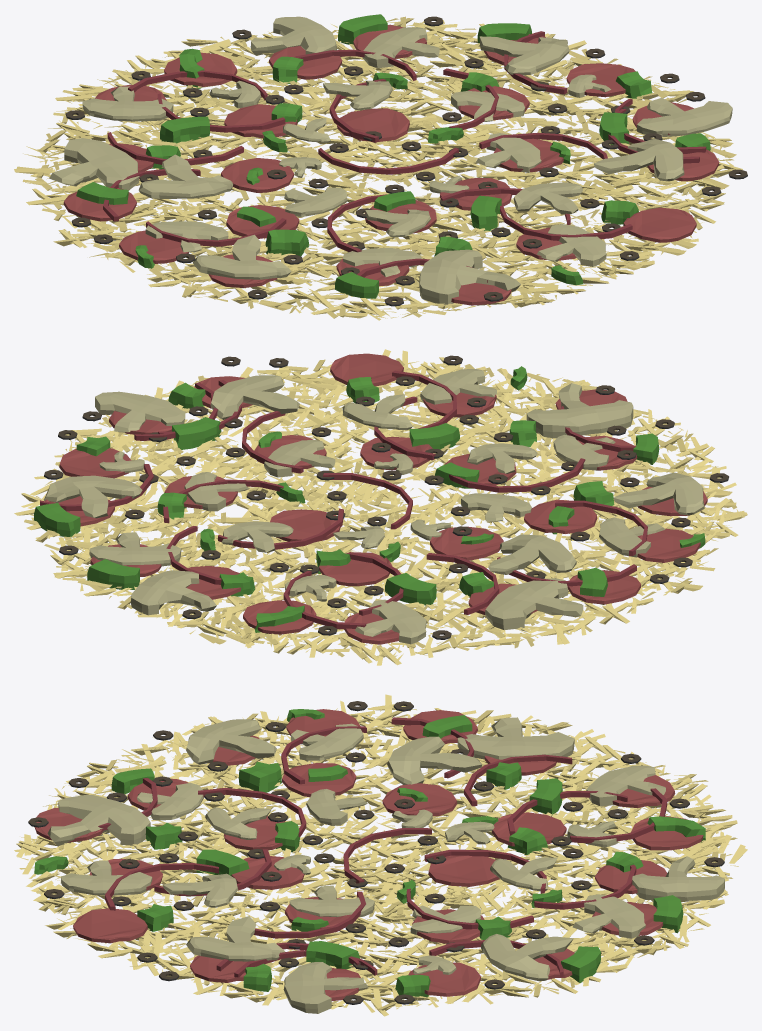
Rendered from FixedFlatToppings2.fbx.
3 renders of one model, top to bottom at view 1: azimuth 30°, elevation 25°; view 2: azimuth 150°, elevation 25°; view 3: azimuth 270°, elevation 25°, orthographic. The views are drawn at different scales.
Parts seen in each view (by area): view 1: FlatCheeseToppings, FlatMushroomToppings, FlatPepperoniToppings, FlatPepperToppings, FlatRedOnionToppings, FlatOlliveToppings; view 2: FlatCheeseToppings, FlatMushroomToppings, FlatPepperoniToppings, FlatPepperToppings, FlatRedOnionToppings, FlatOlliveToppings; view 3: FlatCheeseToppings, FlatMushroomToppings, FlatPepperoniToppings, FlatPepperToppings, FlatRedOnionToppings, FlatOlliveToppings.
Boxes of the visible parts, bbox=[...] form: FlatCheeseToppings: bbox=[14, 16, 742, 320]; FlatMushroomToppings: bbox=[49, 16, 732, 304]; FlatPepperoniToppings: bbox=[63, 24, 719, 305]; FlatPepperToppings: bbox=[76, 14, 710, 298]; FlatRedOnionToppings: bbox=[103, 31, 706, 282]; FlatOlliveToppings: bbox=[65, 16, 747, 306]; FlatCheeseToppings: bbox=[14, 349, 747, 665]; FlatMushroomToppings: bbox=[44, 369, 704, 644]; FlatPepperoniToppings: bbox=[45, 353, 707, 644]; FlatPepperToppings: bbox=[34, 366, 705, 634]; FlatRedOnionToppings: bbox=[40, 370, 647, 629]; FlatOlliveToppings: bbox=[44, 355, 728, 639]; FlatCheeseToppings: bbox=[14, 694, 747, 1016]; FlatMushroomToppings: bbox=[47, 717, 724, 1013]; FlatPepperoniToppings: bbox=[34, 709, 703, 1000]; FlatPepperToppings: bbox=[34, 709, 705, 999]; FlatRedOnionToppings: bbox=[98, 717, 667, 977]; FlatOlliveToppings: bbox=[28, 701, 724, 1004].
Size of the model in its own units: 183 by 5.69 by 178.
